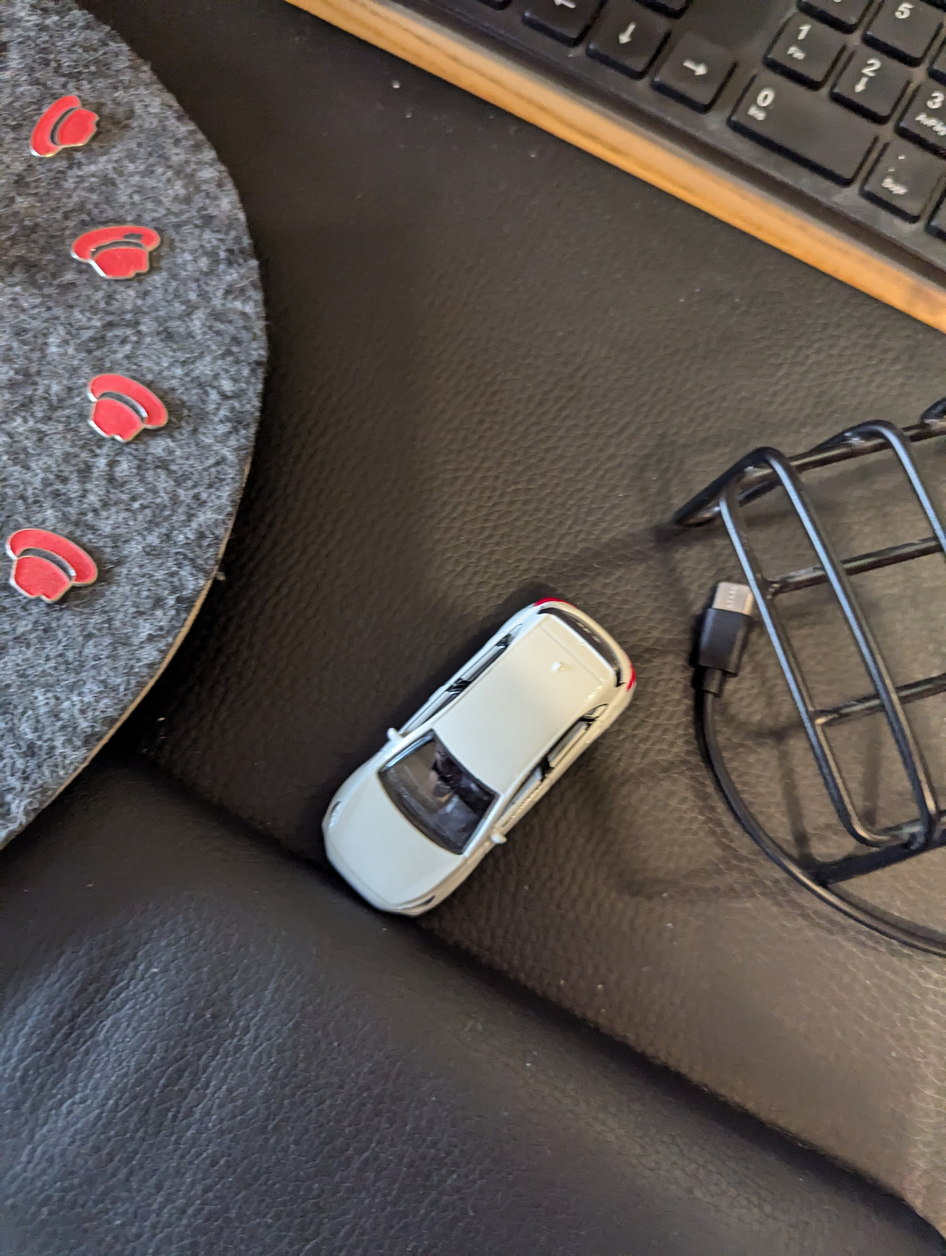Car: (316, 541, 658, 980)
Red-Hat: (72, 349, 185, 465), (48, 208, 185, 288), (3, 512, 109, 608), (16, 75, 109, 170)
Scratch: (114, 222, 156, 261)
